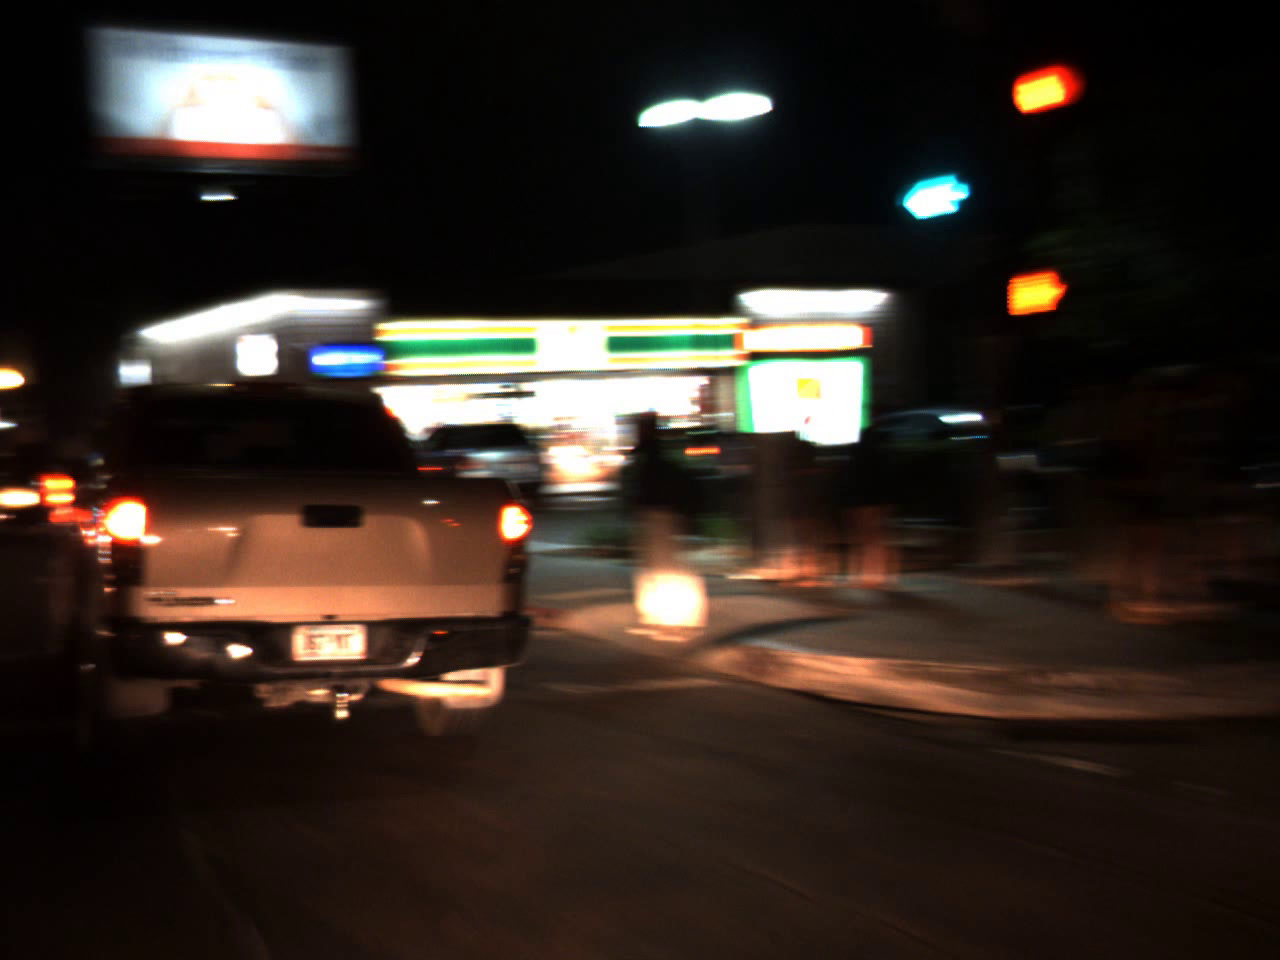go: (887, 142, 984, 226)
